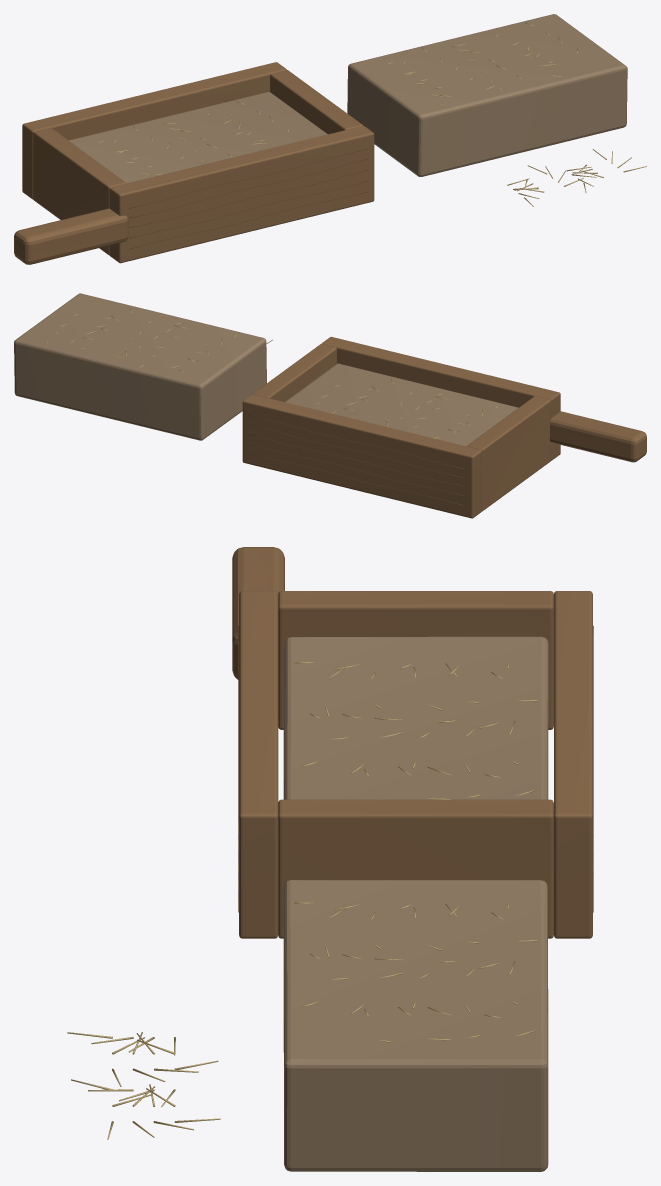
The model's file is brick-mould.glb.
3 renders of one model, top to bottom at view 1: azimuth 30°, elevation 25°; view 2: azimuth 150°, elevation 25°; view 3: azimuth 270°, elevation 25°, orthographic. The views are drawn at different scales.
Visible parts, largest first — view 1: brick-mould-exodus-unfired-mud, brick-mould-exodus-unspecified-wood, brick-mould-exodus-wood-grain, brick-mould-exodus-chopped-straw; view 2: brick-mould-exodus-unfired-mud, brick-mould-exodus-unspecified-wood, brick-mould-exodus-wood-grain, brick-mould-exodus-chopped-straw; view 3: brick-mould-exodus-unfired-mud, brick-mould-exodus-unspecified-wood, brick-mould-exodus-chopped-straw.
Boxes of the visible parts, box(x1,y1,x2,y2) form: brick-mould-exodus-unfired-mud: box(69, 14, 627, 183); brick-mould-exodus-unspecified-wood: box(14, 62, 374, 264); brick-mould-exodus-wood-grain: box(129, 149, 367, 249); brick-mould-exodus-chopped-straw: box(99, 22, 646, 206); brick-mould-exodus-unfired-mud: box(14, 293, 518, 446); brick-mould-exodus-unspecified-wood: box(242, 336, 646, 518); brick-mould-exodus-wood-grain: box(248, 415, 464, 505); brick-mould-exodus-chopped-straw: box(47, 308, 498, 438); brick-mould-exodus-unfired-mud: box(283, 636, 548, 1171); brick-mould-exodus-unspecified-wood: box(232, 547, 592, 938); brick-mould-exodus-chopped-straw: box(67, 662, 537, 1139).
Size of the model in its own units: 1.12 by 0.12 by 0.4584.
